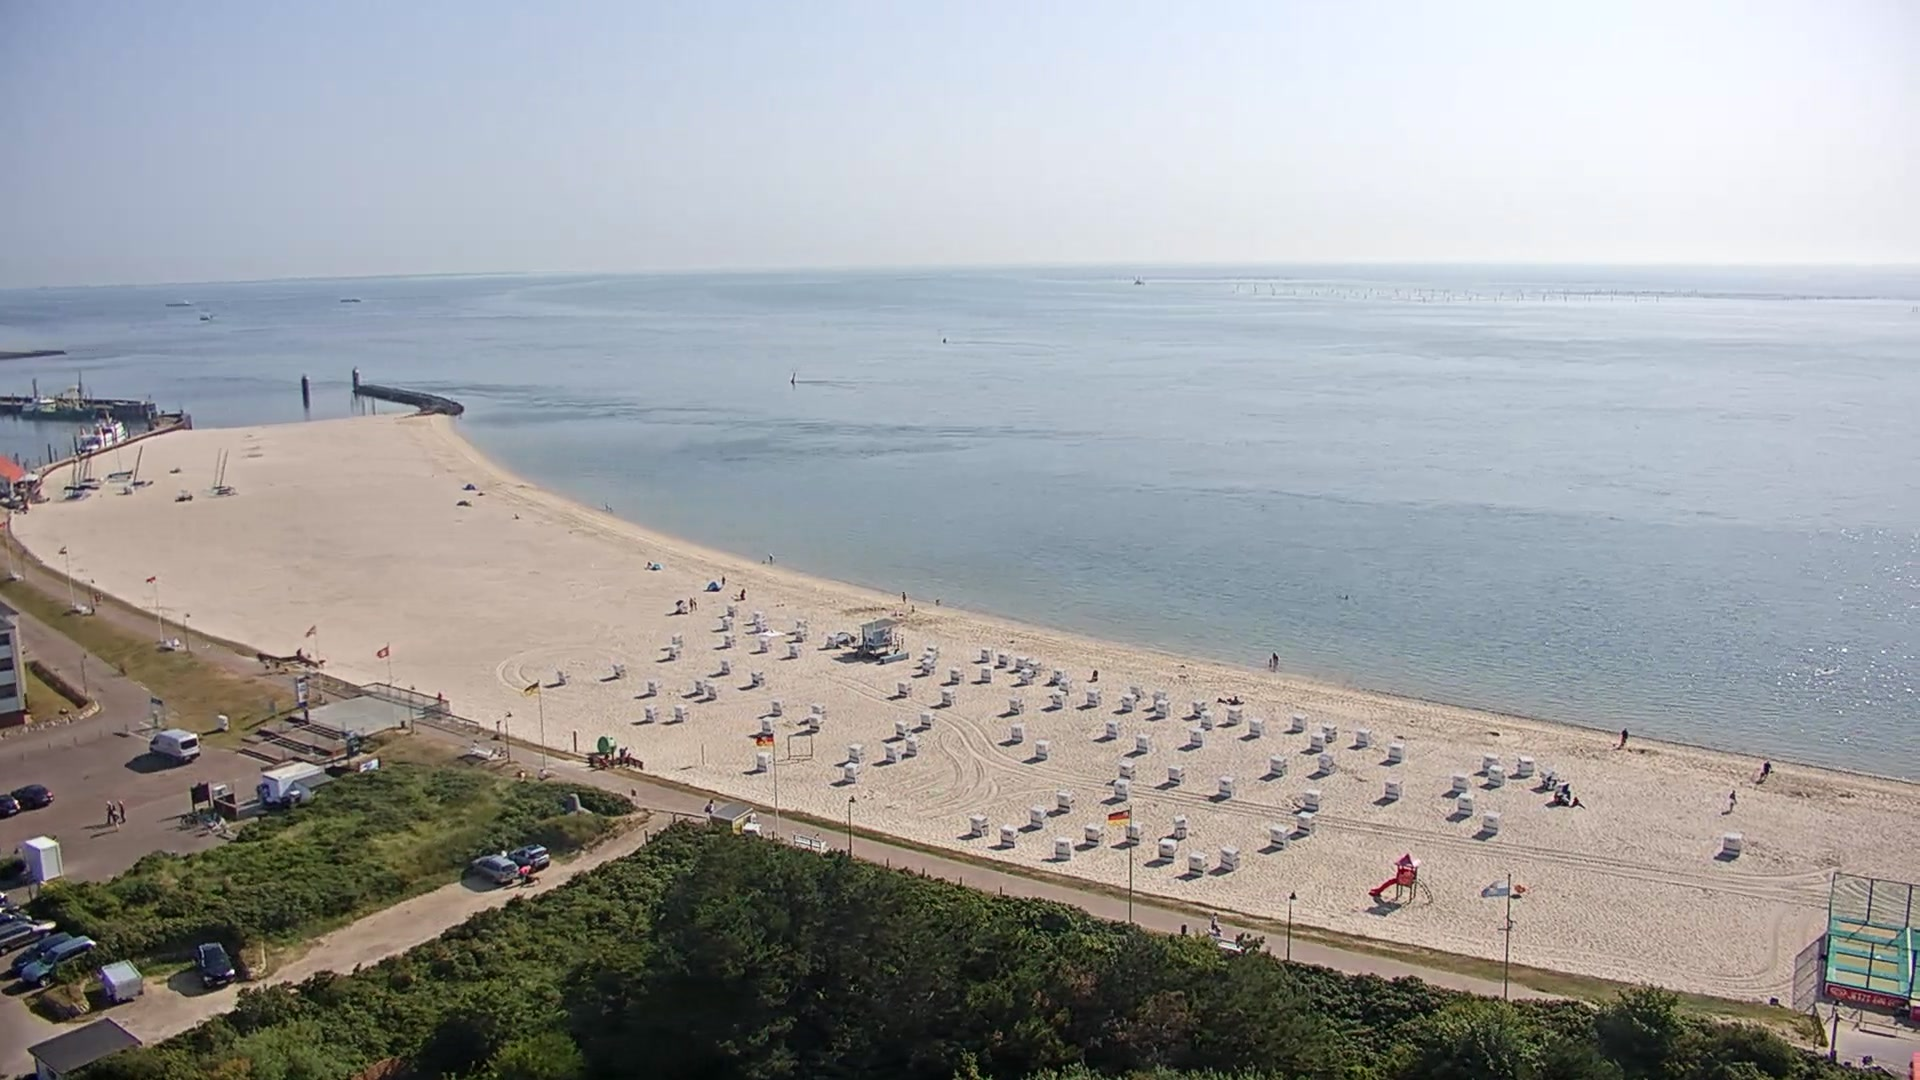human: (105, 799, 116, 824), (117, 799, 128, 824), (518, 862, 531, 880), (1618, 727, 1628, 748), (1208, 910, 1218, 930), (703, 796, 714, 814), (1729, 788, 1737, 810), (1267, 651, 1279, 665), (1763, 759, 1772, 775), (303, 706, 310, 722), (739, 587, 746, 599), (688, 596, 694, 610), (692, 596, 698, 610), (902, 591, 907, 604), (768, 553, 773, 564), (721, 575, 726, 586)
land: (19, 932, 97, 987), (1, 909, 70, 954), (11, 930, 74, 973), (190, 938, 237, 988), (148, 725, 202, 761), (468, 852, 518, 883), (9, 782, 55, 809), (506, 841, 550, 868), (1, 792, 21, 818)
sea: (17, 369, 96, 422), (76, 405, 130, 452), (63, 448, 100, 490), (210, 447, 235, 494), (63, 458, 84, 500), (129, 442, 147, 486), (164, 299, 192, 307), (340, 298, 361, 303), (199, 313, 211, 320), (1133, 275, 1144, 284)
